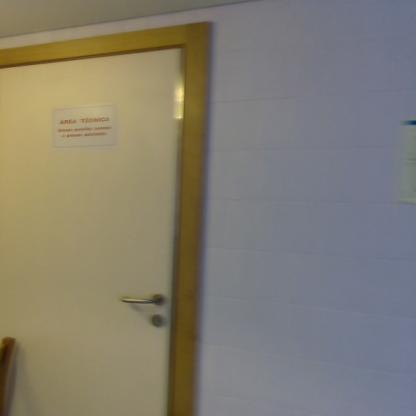door: (0, 65, 172, 415)
hinged: (0, 87, 3, 109)
lever: (117, 292, 165, 310)
